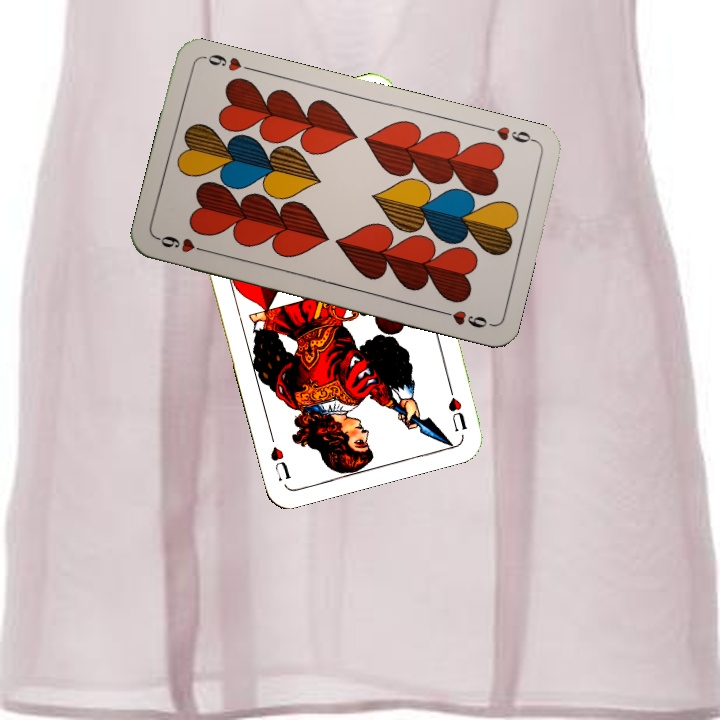H9: (154, 231, 212, 256), (481, 122, 539, 146)
HU: (443, 378, 470, 435)
